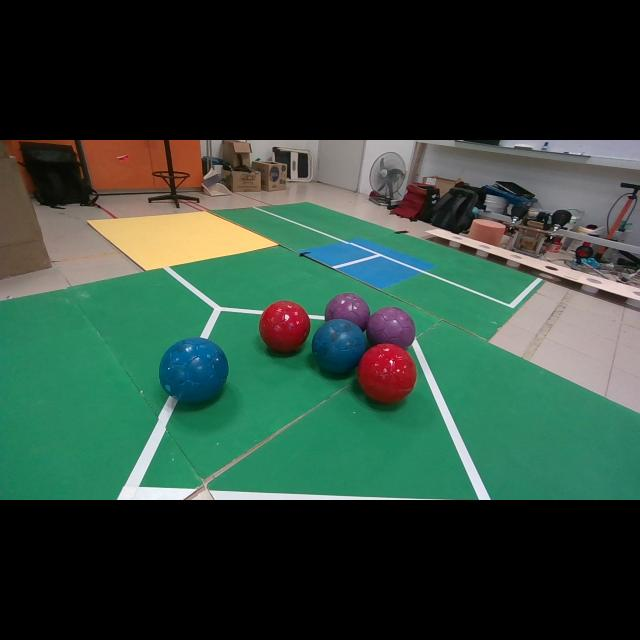B: (159, 338, 229, 402), (311, 319, 366, 374)
P: (366, 306, 415, 349), (325, 292, 370, 331)
R: (358, 344, 418, 404), (259, 300, 311, 352)
